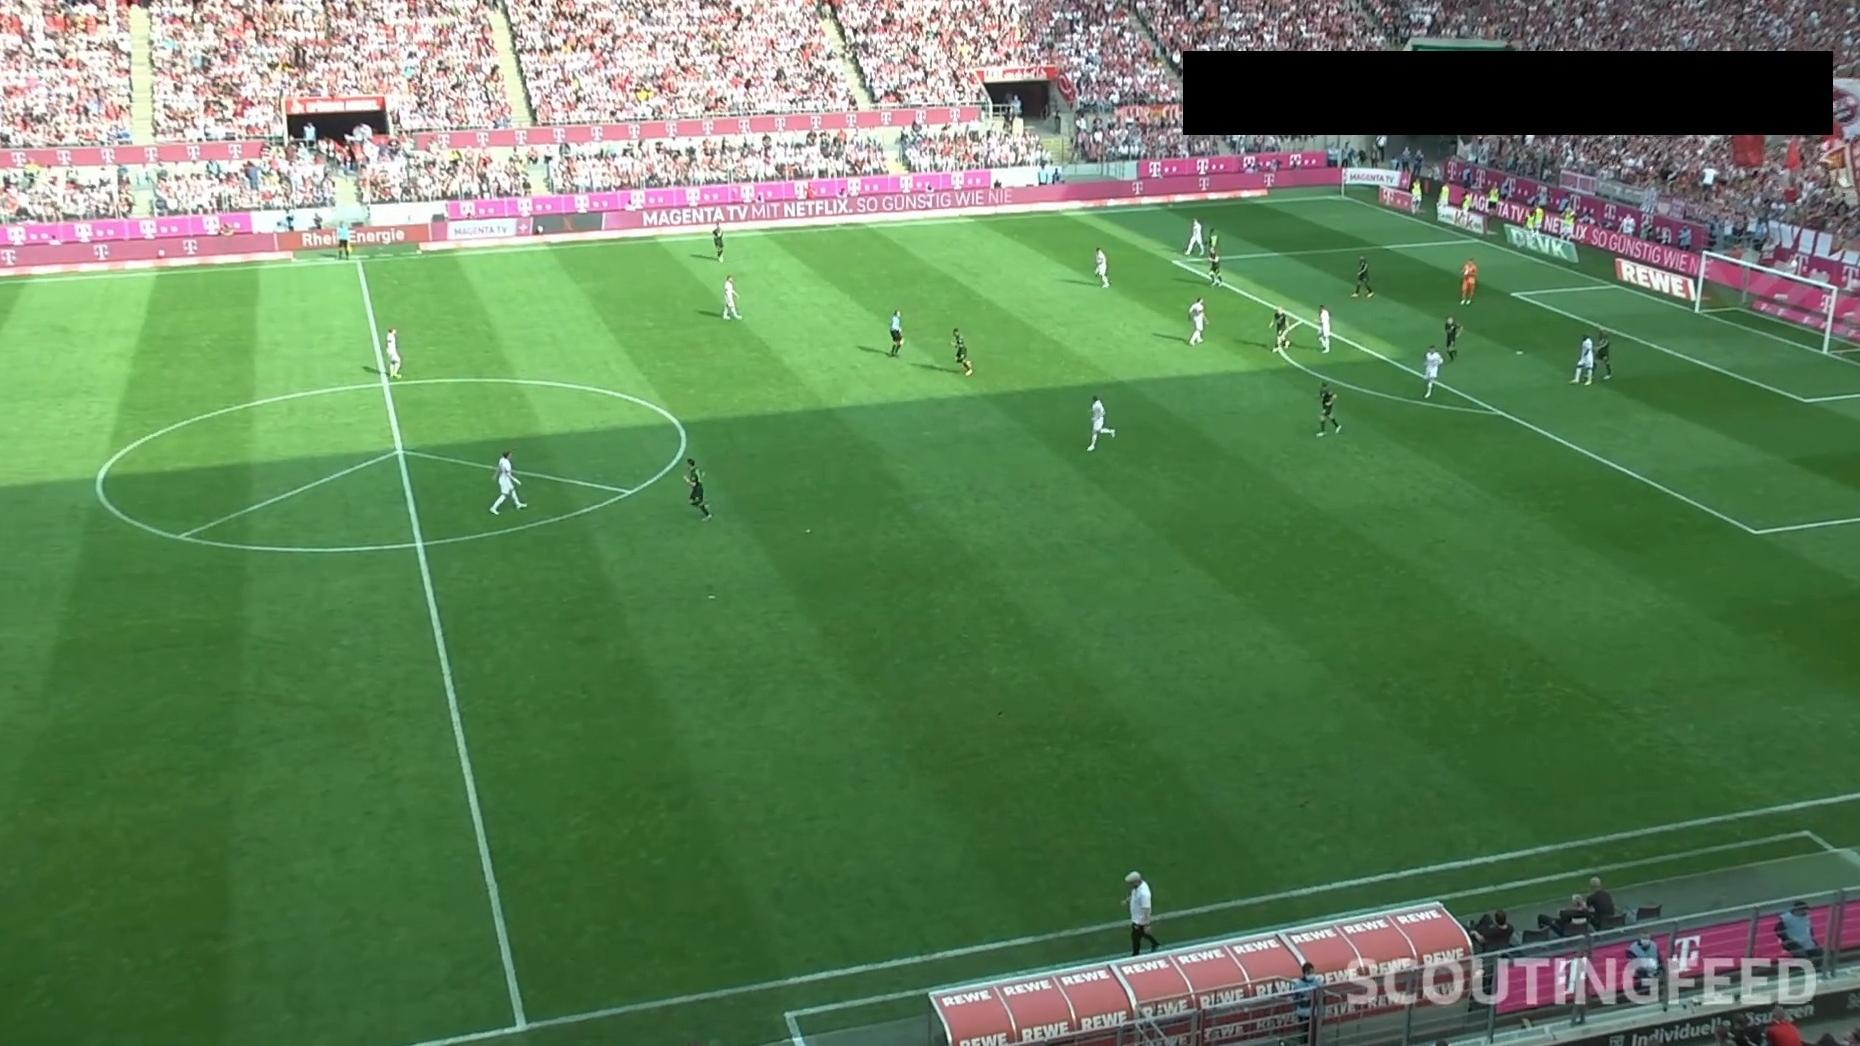ball: (1461, 268, 1470, 277)
